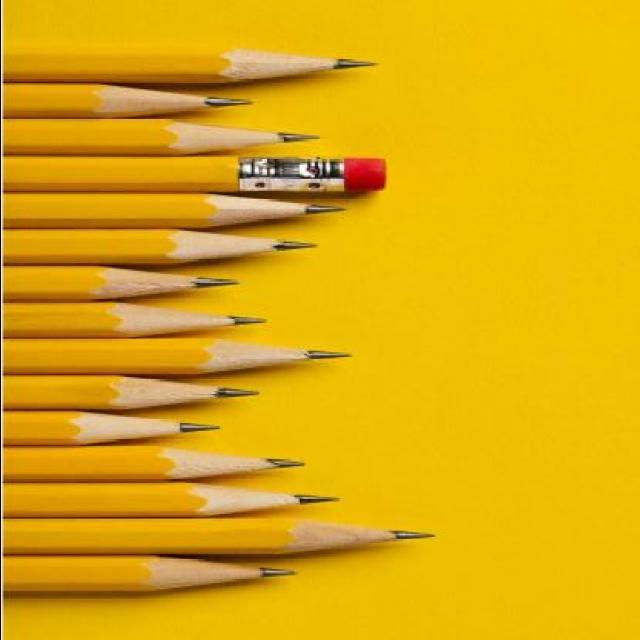Pencil: (115, 222, 331, 268), (186, 40, 388, 88), (44, 80, 262, 123), (154, 333, 362, 378), (57, 371, 268, 414), (237, 516, 449, 558), (74, 298, 276, 342), (154, 187, 357, 230), (127, 115, 330, 158), (110, 553, 312, 596), (47, 260, 253, 302), (146, 480, 350, 522), (120, 442, 316, 484), (44, 409, 228, 446)
